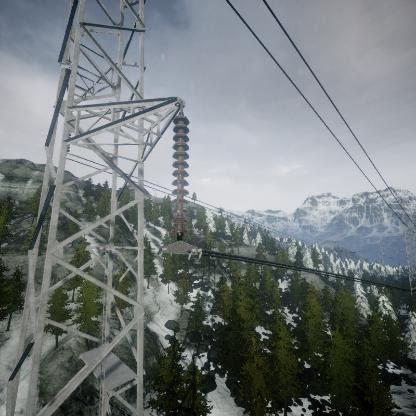insulator: (171, 113, 193, 239)
